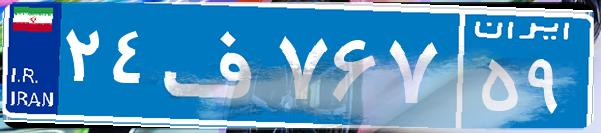2: (57, 26, 110, 107)
4: (110, 28, 158, 105)
5: (475, 38, 525, 113)
6: (330, 28, 385, 110)
7: (385, 28, 445, 110), (273, 28, 330, 110)
9: (525, 38, 570, 115)
ف: (158, 15, 273, 115)
